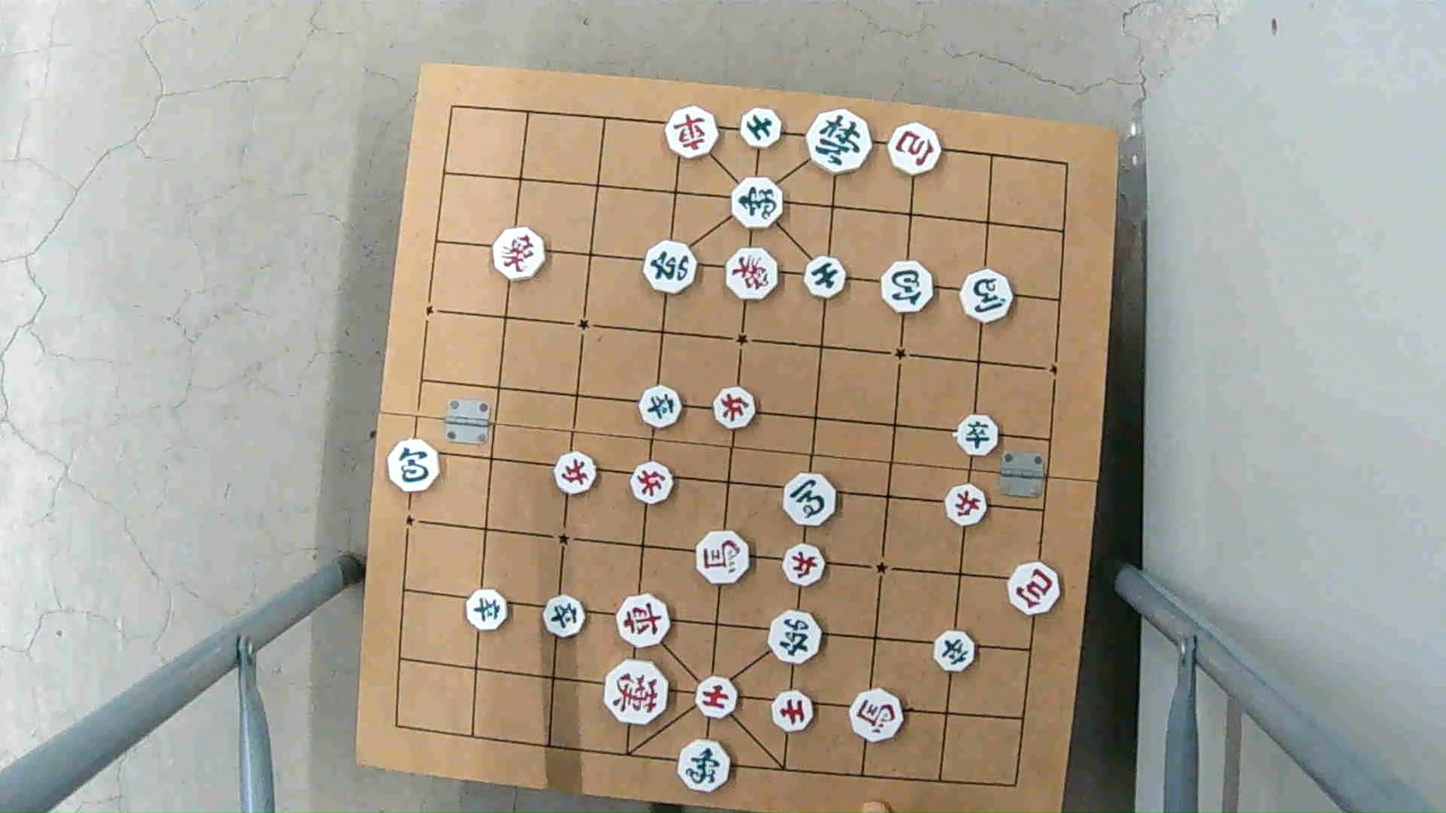cha_green: (642, 238, 697, 298), (766, 610, 823, 662)
cha_red: (615, 592, 671, 647), (667, 108, 722, 157)
jol_green: (466, 589, 511, 630), (636, 387, 682, 426), (930, 632, 976, 671), (541, 598, 587, 637), (954, 417, 1001, 455)
jol_red: (710, 388, 758, 428), (553, 452, 599, 492), (628, 465, 674, 504), (782, 545, 829, 583), (944, 486, 991, 523)
ma_green: (959, 264, 1014, 323), (781, 473, 840, 525)
ma_red: (695, 531, 755, 582), (847, 690, 904, 739)
po_green: (385, 440, 444, 489), (883, 261, 938, 311)
po_red: (1004, 562, 1061, 611), (887, 126, 944, 175)
sa_green: (802, 259, 850, 297), (737, 111, 785, 148)
sa_red: (694, 678, 743, 716), (771, 690, 816, 731)
sang_green: (674, 738, 732, 792), (730, 178, 787, 226)
sang_red: (724, 251, 781, 300), (491, 231, 548, 279)
wang_green: (805, 114, 873, 172)
wang_red: (602, 662, 670, 724)
